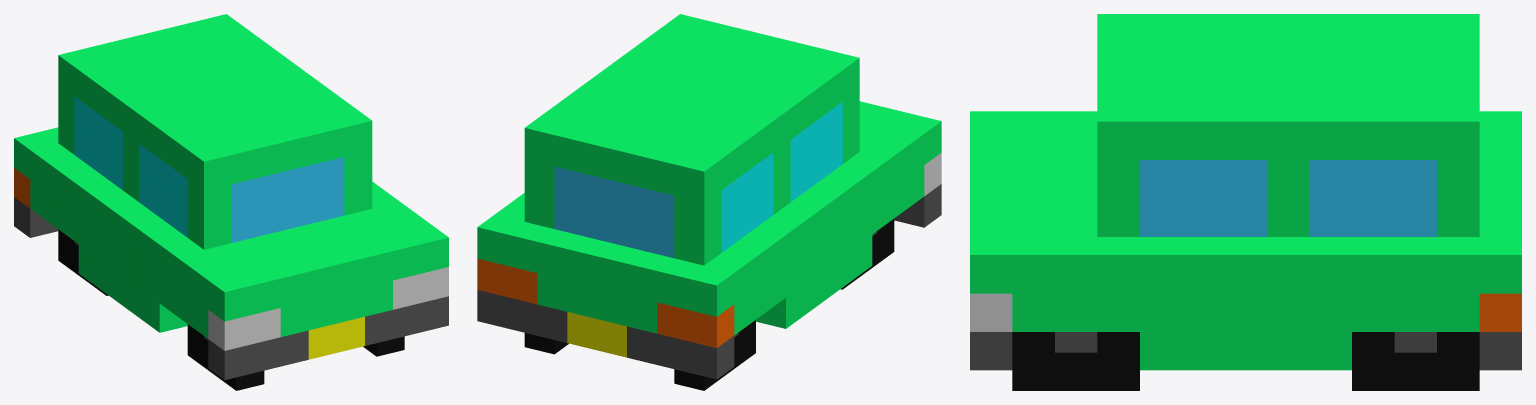
The model's file is Car_green.fbx.
The picture shows the model from 3 angles, left to right: view 1: azimuth 30°, elevation 25°; view 2: azimuth 150°, elevation 25°; view 3: azimuth 270°, elevation 25°; orthographic projection. The views are drawn at different scales.
Parts seen in each view (by area): view 1: 立方体.209, 立方体.421, 立方体.013, 立方体.367, 立方体.105, 立方体.313, 立方体.212, 立方体.425, 立方体.210, 立方体.211, 立方体.423, 立方体.213 (+142 smaller); view 2: 立方体.469, 立方体.305, 立方体.201, 立方体.097, 立方体.361, 立方体.415, 立方体.312, 立方体.471, 立方体.473, 立方体.310, 立方体.311, 立方体.472 (+130 smaller); view 3: 立方体.264, 立方体.444, 立方体.216, 立方体.224, 立方体.232, 立方体.240, 立方体.248, 立方体.256, 立方体.272, 立方体.280, 立方体.288, 立方体.296 (+133 smaller).
Boxes of the visible parts, x1,y1,x2,y2 form: 立方体.209: [208, 273, 252, 321]; 立方体.421: [187, 143, 231, 190]; 立方体.013: [208, 339, 252, 380]; 立方体.367: [187, 179, 231, 220]; 立方体.105: [208, 310, 252, 350]; 立方体.313: [187, 209, 231, 249]; 立方体.212: [293, 253, 336, 300]; 立方体.425: [300, 116, 344, 163]; 立方体.210: [236, 266, 280, 314]; 立方体.211: [265, 260, 308, 307]; 立方体.423: [244, 129, 288, 177]; 立方体.213: [321, 246, 364, 293]; 立方体.469: [674, 151, 721, 202]; 立方体.305: [687, 265, 734, 316]; 立方体.201: [687, 304, 734, 348]; 立方体.097: [687, 336, 734, 379]; 立方体.361: [674, 222, 721, 265]; 立方体.415: [674, 190, 721, 234]; 立方体.312: [477, 214, 524, 265]; 立方体.471: [614, 137, 661, 188]; 立方体.473: [554, 122, 601, 173]; 立方体.310: [537, 229, 583, 280]; 立方体.311: [507, 222, 554, 272]; 立方体.472: [584, 130, 631, 180]; 立方体.264: [1224, 237, 1267, 293]; 立方体.444: [1224, 103, 1267, 159]; 立方体.216: [970, 237, 1012, 293]; 立方体.224: [1012, 237, 1054, 293]; 立方体.232: [1055, 237, 1097, 293]; 立方体.240: [1097, 237, 1139, 293]; 立方体.248: [1140, 237, 1182, 293]; 立方体.256: [1182, 237, 1224, 293]; 立方体.272: [1267, 237, 1309, 293]; 立方体.280: [1309, 237, 1351, 293]; 立方体.288: [1352, 237, 1394, 293]; 立方体.296: [1394, 237, 1436, 293].
Size of the model in its own units: 800 by 700 by 1300.
